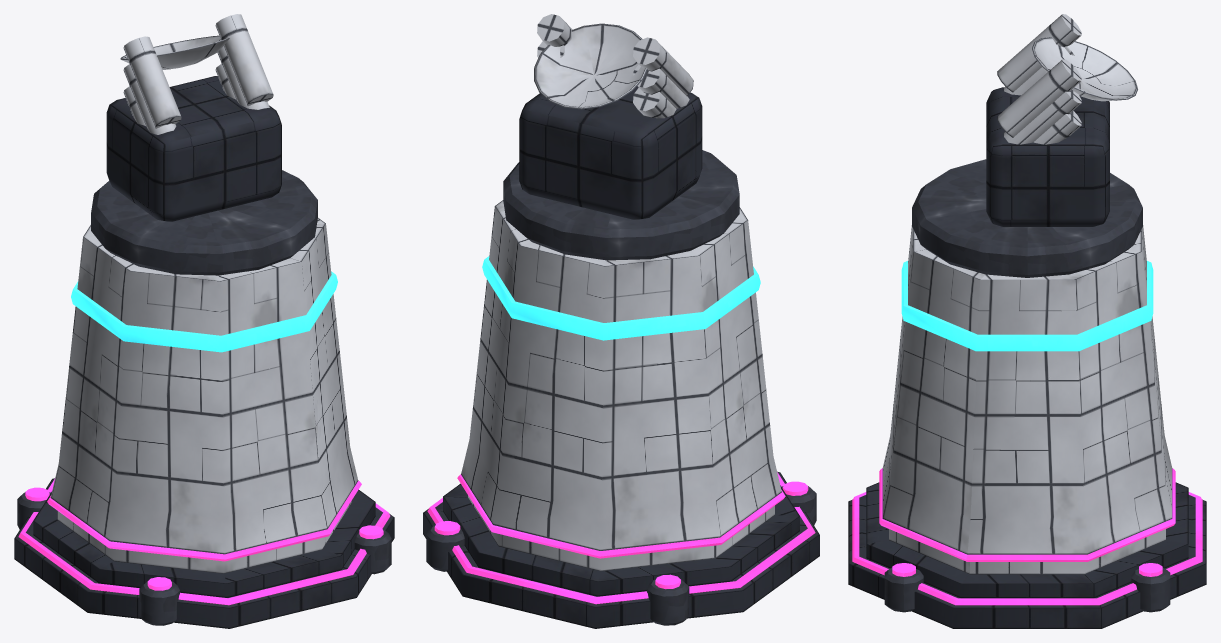
The model's file is sf_skywatch.glb.
3 renders of one model, left to right at view 1: azimuth 30°, elevation 25°; view 2: azimuth 150°, elevation 25°; view 3: azimuth 270°, elevation 25°, orthographic. The views are drawn at different scales.
Parts seen in each view (by area): view 1: Base, Turret; view 2: Base, Turret; view 3: Base, Turret.
Boxes of the visible parts, x1,y1,x2,y2 form: Base: (14, 218, 394, 628); Turret: (91, 14, 317, 275); Base: (423, 200, 819, 628); Turret: (503, 14, 739, 260); Base: (848, 225, 1206, 628); Turret: (912, 14, 1142, 277).
Size of the model in its own units: 0.8684 by 1.38 by 0.8684.
Materials: 5 (5 with a texture image).
